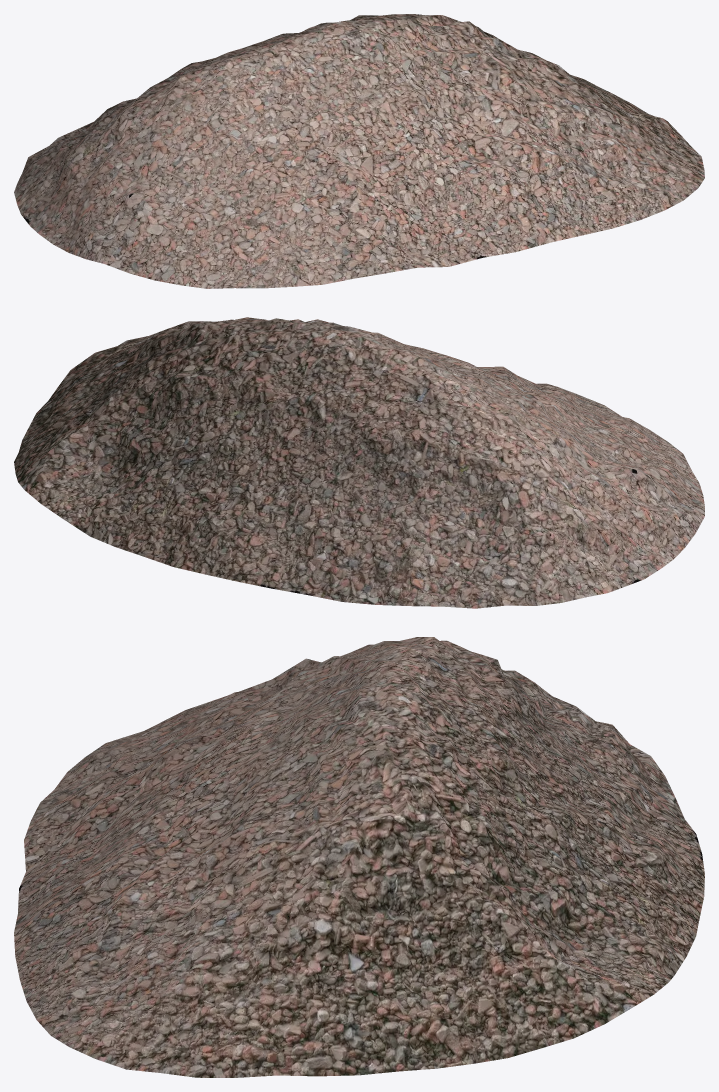
File: entulho.gltf
3 views of the same model, one above another, from view 1: azimuth 30°, elevation 25°; view 2: azimuth 150°, elevation 25°; view 3: azimuth 270°, elevation 25° (orthographic). The views are drawn at different scales.
Visible parts, largest first — view 1: entulho; view 2: entulho; view 3: entulho.
Part boxes in pixels (x1,y1,x2,y2): entulho: [14, 14, 704, 288]; entulho: [14, 317, 704, 608]; entulho: [14, 637, 704, 1077].
Size of the model in its own units: 5.14 by 1.2 by 3.83.
1 material, 1 textured.
